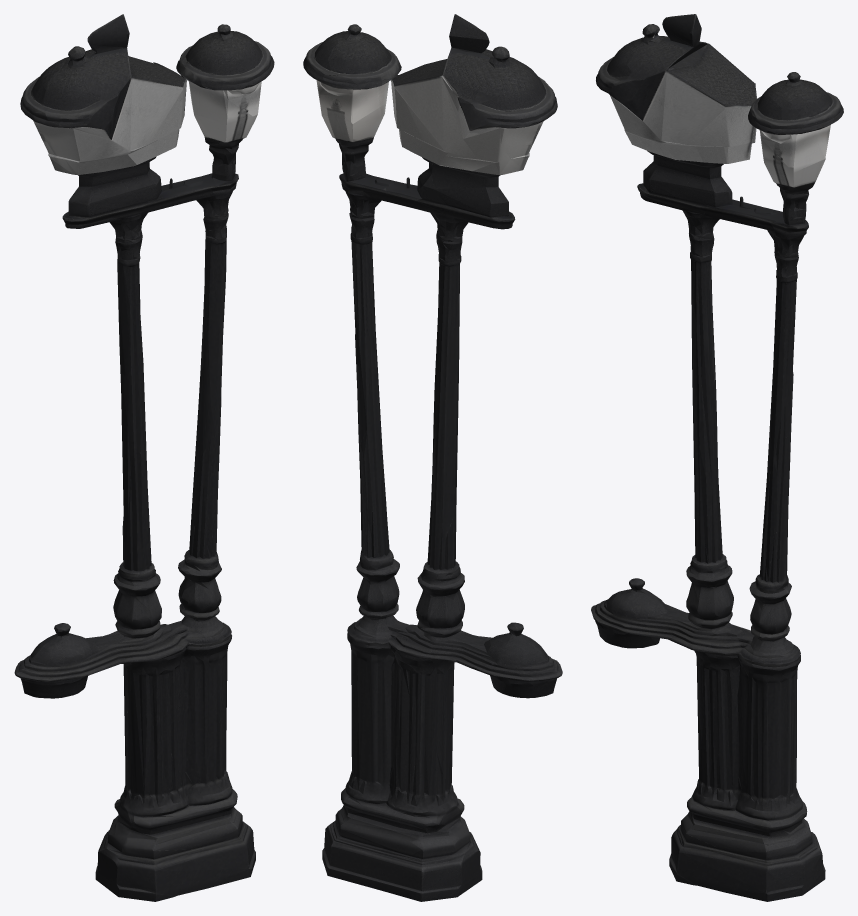
The model's file is cast-lantern.glb.
The picture shows the model from 3 angles, left to right: view 1: azimuth 30°, elevation 25°; view 2: azimuth 150°, elevation 25°; view 3: azimuth 330°, elevation 25°; orthographic projection. The views are drawn at different scales.
Visible parts, largest first — view 1: Mesh_0; view 2: Mesh_0; view 3: Mesh_0.
Part boxes in pixels (<box>): Mesh_0: <box>14,14,274,901</box>; Mesh_0: <box>303,14,562,901</box>; Mesh_0: <box>591,14,843,901</box>.
Size of the model in its own units: 0.5747 by 1.9 by 0.2315.
Materials: 1 (1 with a texture image).
